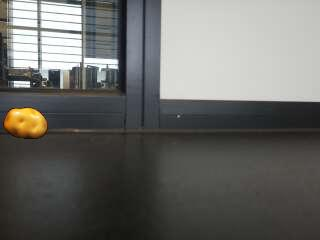Potato: (4, 108, 47, 139)
